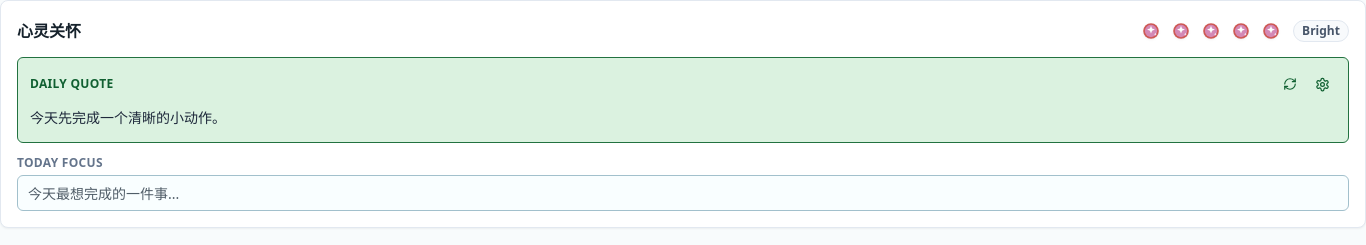
Scenario: CarePanel › allows changing energy again while a previous save is still pending
The width and height of the screenshot is (1366, 245).
Expected: the text "Bright" is shown, [1293, 20, 1349, 42]
Click the button named "Set energy to 4": (1241, 31) [1227, 17, 1255, 45]
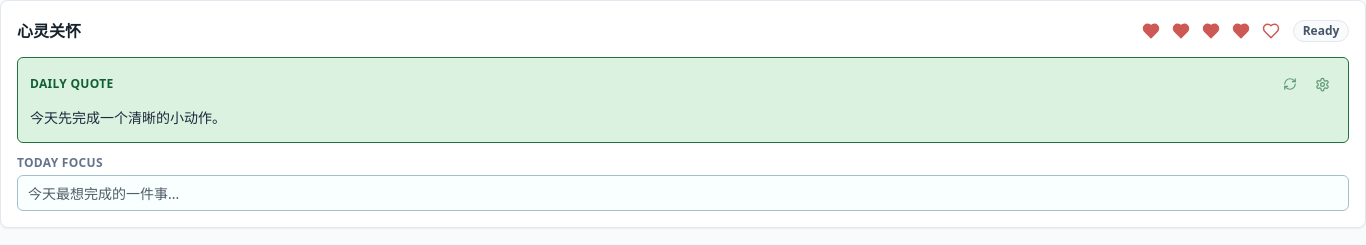
Click the button named "Set energy to 2": (1181, 31) [1167, 17, 1195, 45]
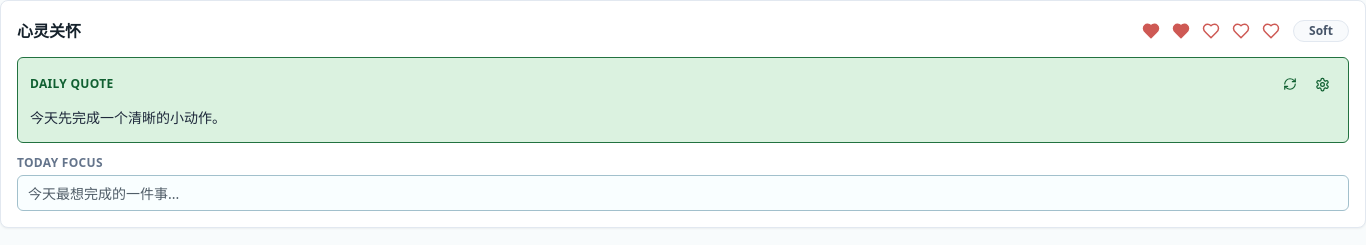
Expected: the text "Soft" is shown, [1293, 20, 1349, 42]
